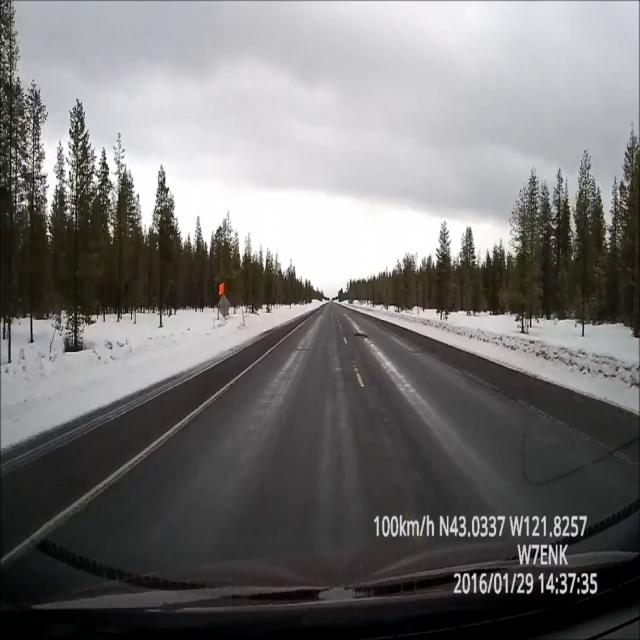Pothole: (354, 332, 368, 339)
